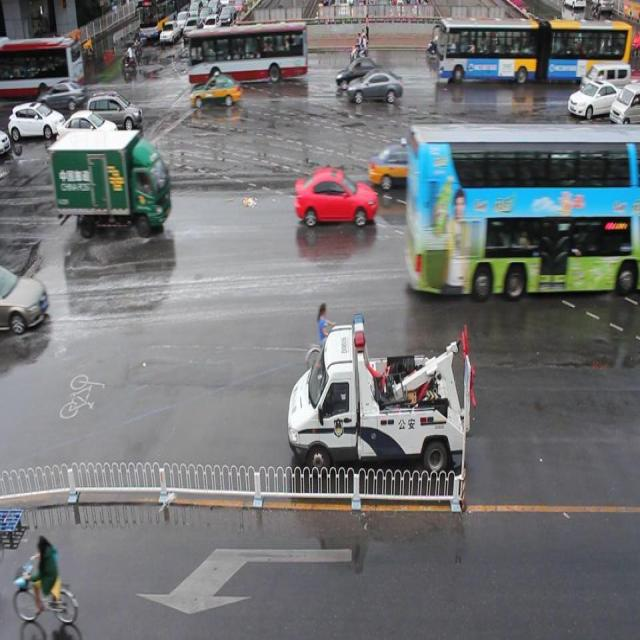bus: (51, 130, 172, 227)
car: (294, 166, 377, 229), (543, 145, 618, 193), (368, 144, 437, 194), (566, 78, 623, 118), (347, 68, 402, 106), (189, 75, 244, 111), (334, 59, 388, 90)
van: (405, 123, 640, 291), (436, 16, 629, 86), (188, 25, 307, 84)
